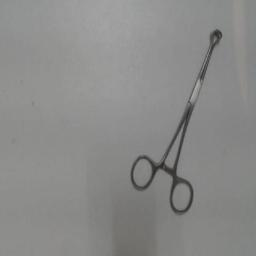Babcock Tissue Forceps: (128, 26, 224, 218)
